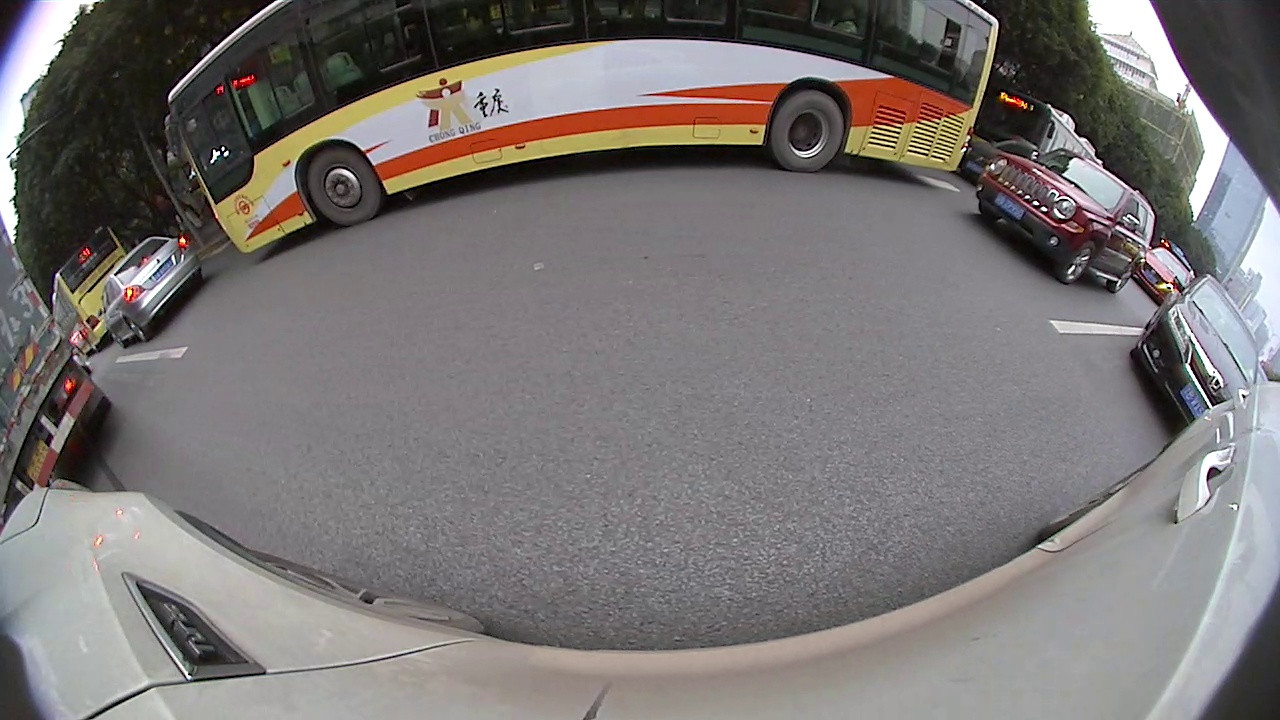bus: (173, 1, 1000, 256), (960, 84, 1101, 184), (49, 227, 129, 361)
car: (973, 146, 1157, 297), (1131, 273, 1259, 431), (102, 236, 207, 352), (1134, 244, 1197, 307)
front: (307, 146, 383, 228), (1056, 238, 1099, 286)
rear: (769, 90, 849, 174), (1105, 263, 1134, 296), (123, 316, 151, 344)
truck: (0, 218, 109, 539)
